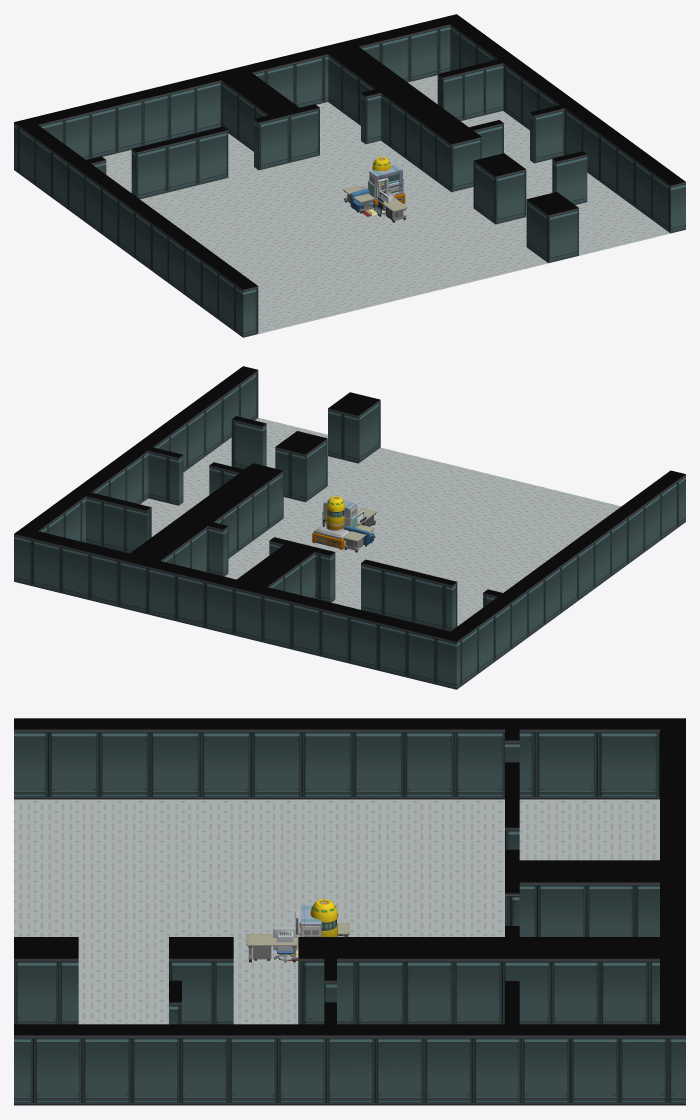
The picture shows the model from 3 angles, top to bottom: view 1: azimuth 30°, elevation 25°; view 2: azimuth 150°, elevation 25°; view 3: azimuth 270°, elevation 25°; orthographic projection. The views are drawn at different scales.
Parts seen in each view (by area): view 1: Shape1, polySurface1; view 2: Shape1, polySurface1, SM_C_001_Machine_05_0; view 3: Shape1, polySurface1, SM_C_001_Table_08_0, SM_C_001_Machine_05_0.
Boxes of the visible parts, x1,y1,x2,y2 form: Shape1: (14,14,685,337); polySurface1: (103,75,670,333); Shape1: (14,366,685,689); polySurface1: (140,418,620,626); SM_C_001_Machine_05_0: (313,496,349,545); Shape1: (14,718,685,1105); polySurface1: (14,799,659,1024); SM_C_001_Table_08_0: (246,934,298,962); SM_C_001_Machine_05_0: (310,899,346,936).
Size of the model in its own units: 29 by 3.24 by 26.
Materials: 22 (21 with a texture image).
